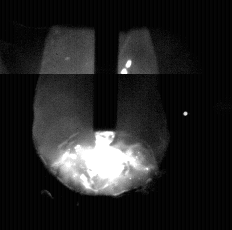arame: (94, 0, 118, 132)
poca: (32, 0, 170, 230)
